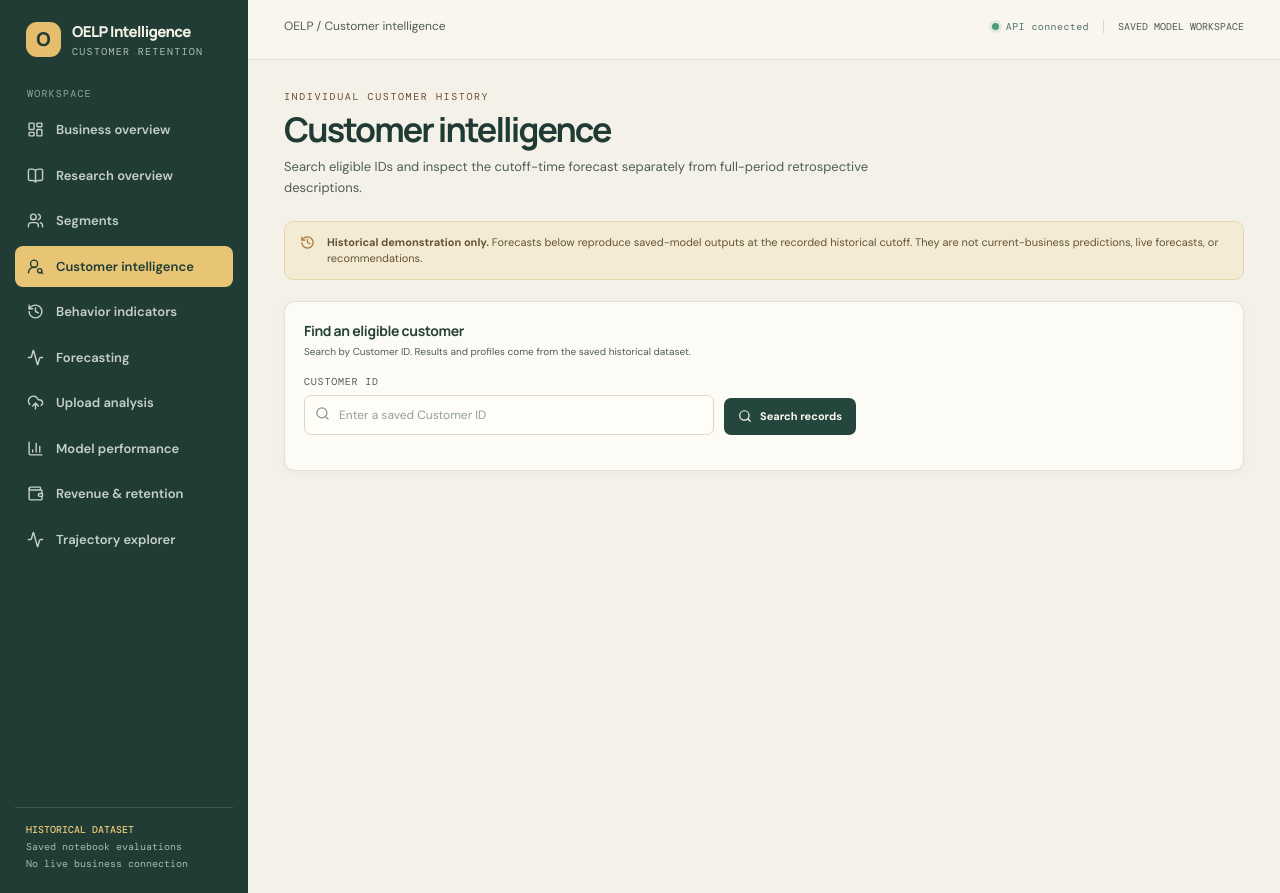
OELP customer intelligence pages › links a customer intelligence profile into its historical trajectory
Check: the heading "Customer intelligence" is shown, box [284,106,610,152]
Type "12345" into the field with test id "input-customer-id" at (509, 415), box [304,395,714,435]
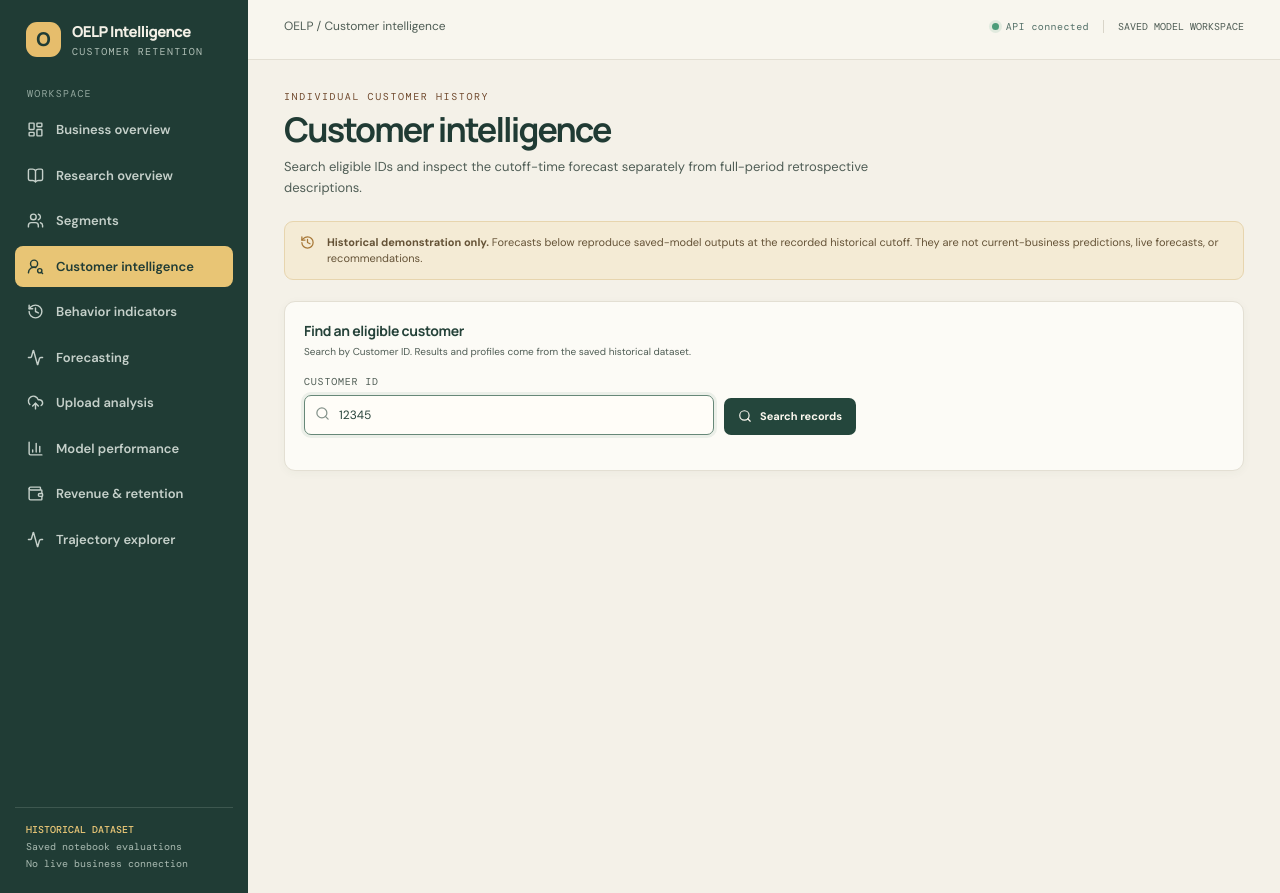
Click the button with test id "button-search-customer" at (790, 416), box [724,398,856,435]
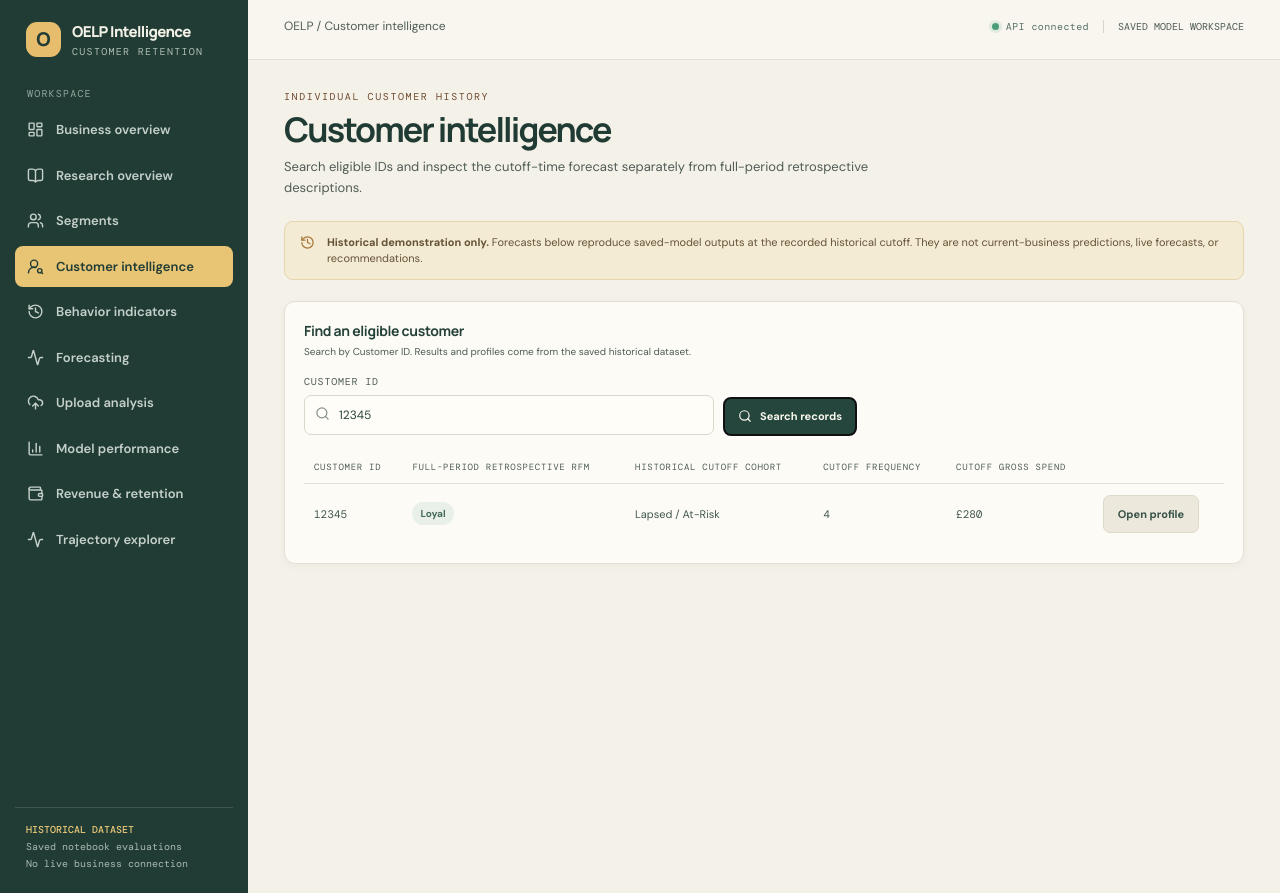
Click the button with test id "button-open-customer-12345" at (1151, 514), box [1103,495,1199,533]
(page scrolled)
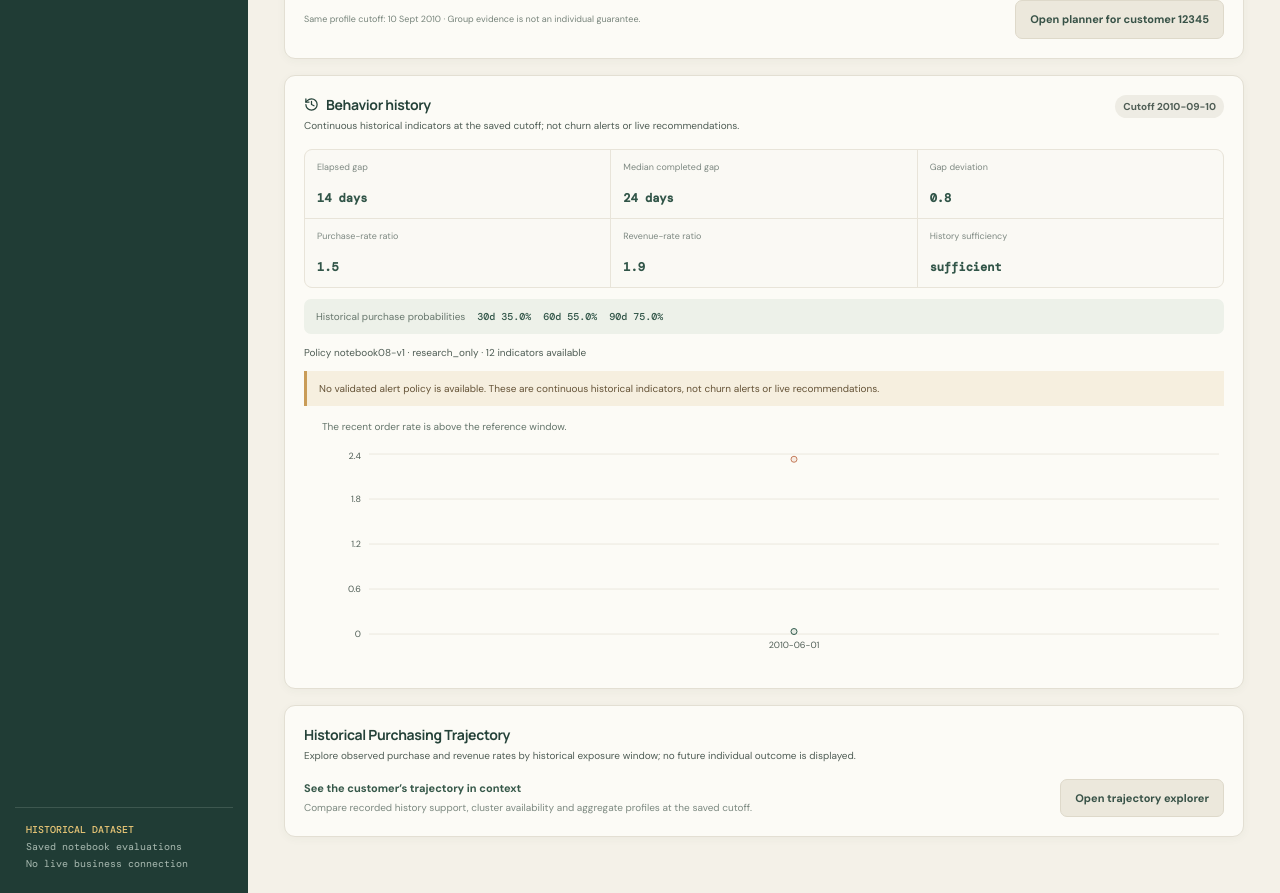
Click the link with test id "link-customer-trajectory" at (1142, 798), box [1060,779,1224,817]
(page scrolled)
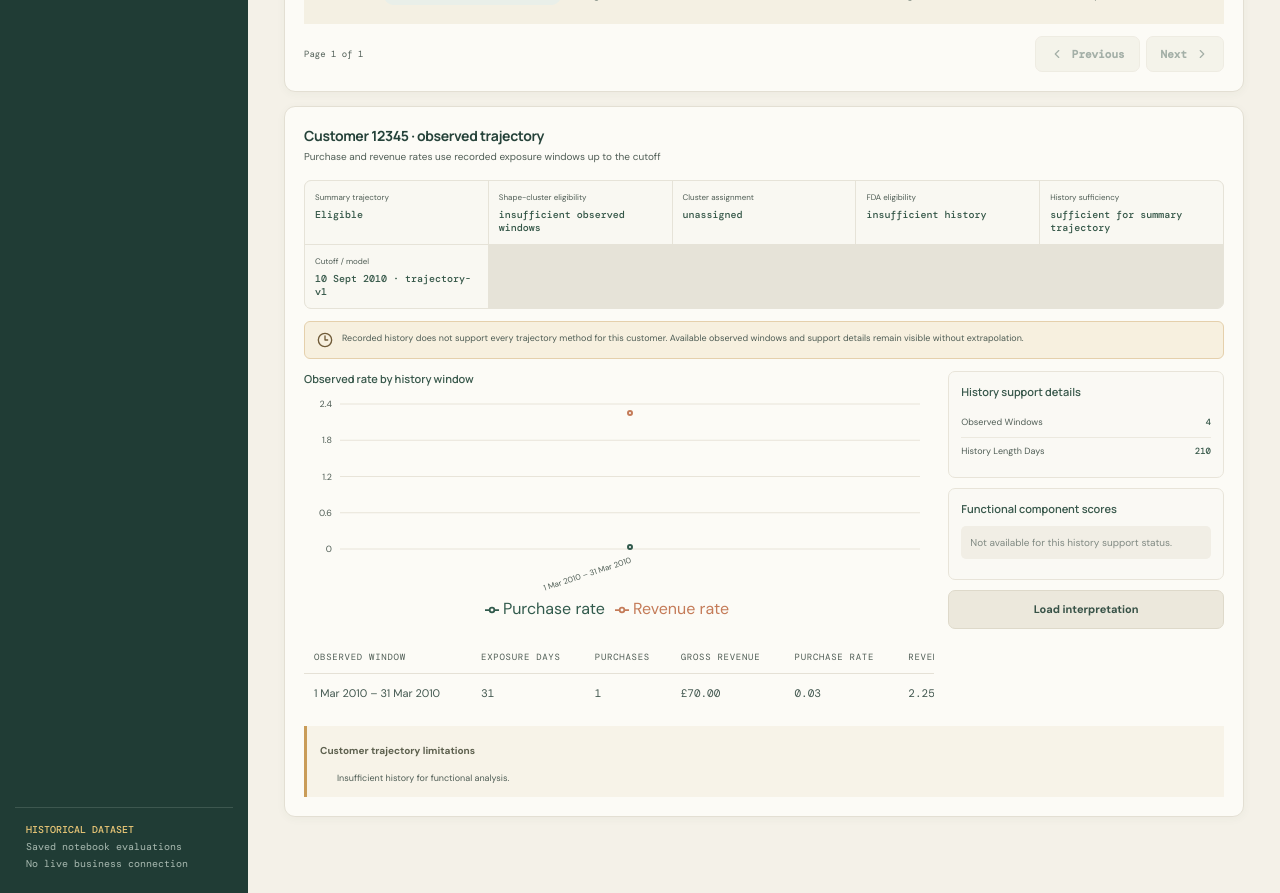
Check: the element with test id "panel-customer-trajectory" shows "Customer 12345", box [284,106,1244,816]
